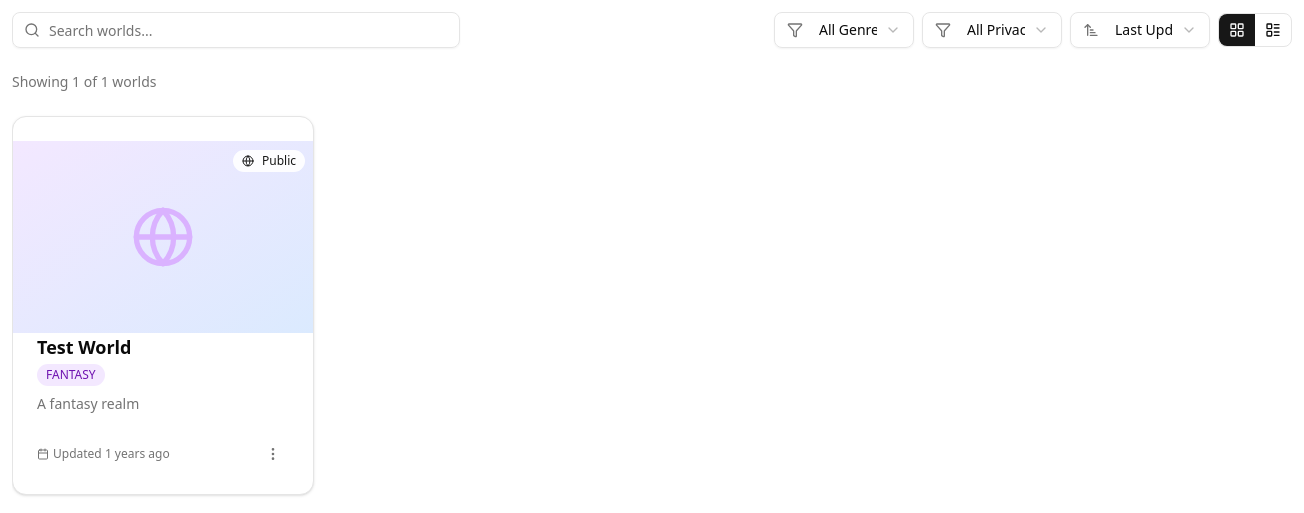
Test case: WorldsList › List View › displays worlds in table format in list view
Step 1. Click the 2nd button → (1273, 30), box [1255,14,1291,46]
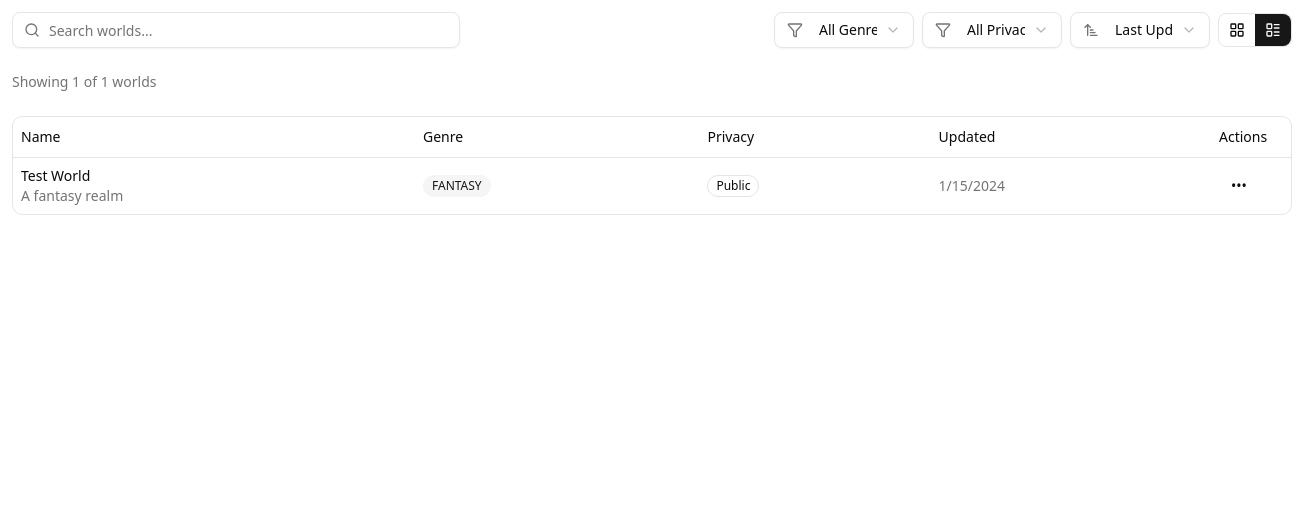
expect the link "Test World" is shown: met, box [21,166,90,184]
expect the text "FANTASY" is shown: met, box [423,174,491,196]
